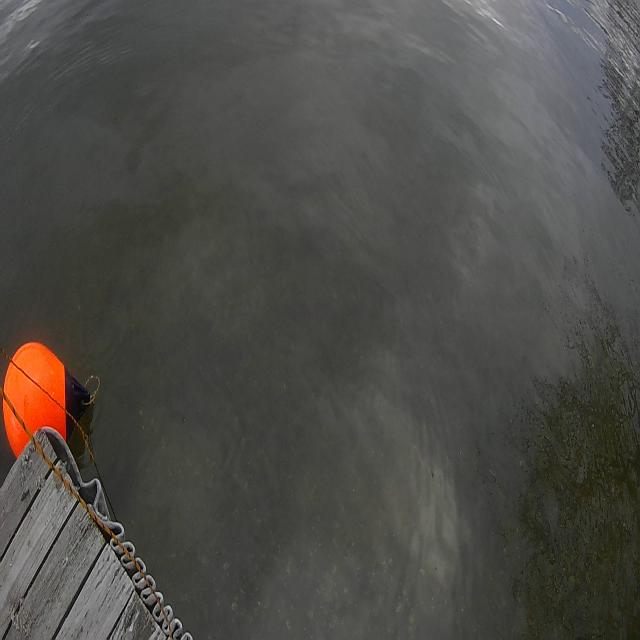Buoy: (0, 337, 71, 468)
